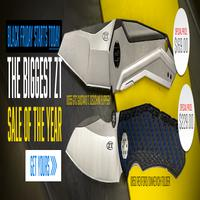knife: (59, 108, 192, 183), (51, 22, 185, 95)
